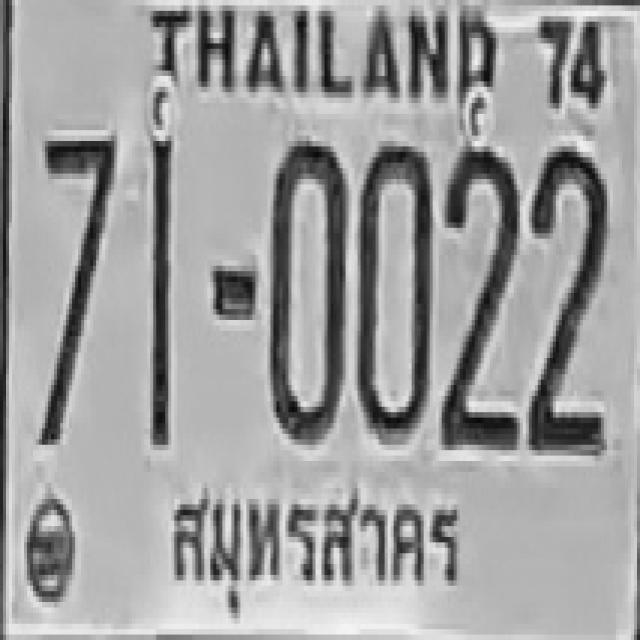0: (268, 136, 346, 439), (356, 141, 431, 439)
1: (150, 133, 172, 447)
2: (526, 141, 607, 450), (440, 138, 518, 448)
7: (40, 130, 116, 445)
SamutSakhon: (163, 472, 464, 628)
